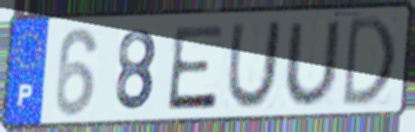6: (52, 25, 103, 119)
8: (114, 27, 159, 113)
D: (339, 13, 398, 111)
E: (164, 22, 227, 114)
U: (223, 19, 285, 112), (282, 17, 344, 108)
